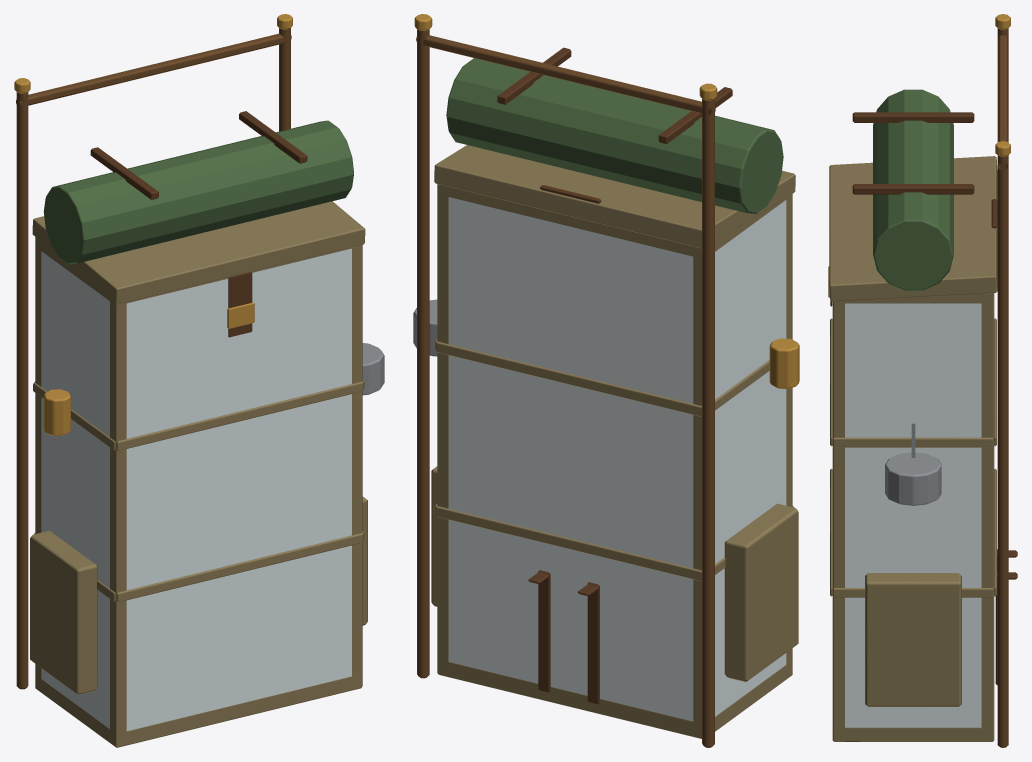
The model's file is Backsack3.glb.
3 views of the same model, side by side, from view 1: azimuth 30°, elevation 25°; view 2: azimuth 150°, elevation 25°; view 3: azimuth 270°, elevation 25° (orthographic). The views are drawn at different scales.
Visible parts, largest first — view 1: Backsack3.001; view 2: Backsack3.001; view 3: Backsack3.001.
Part boxes in pixels (x1,y1,x2,y2): Backsack3.001: (14, 14, 384, 747); Backsack3.001: (413, 14, 799, 747); Backsack3.001: (828, 14, 1017, 747).
Size of the model in its own units: 1.35 by 2.3 by 0.654.
